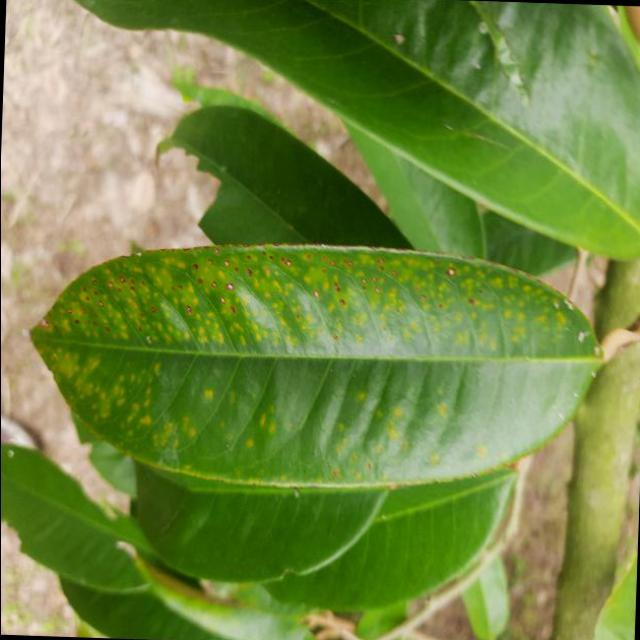Leaf Spot: (9, 223, 627, 507)
